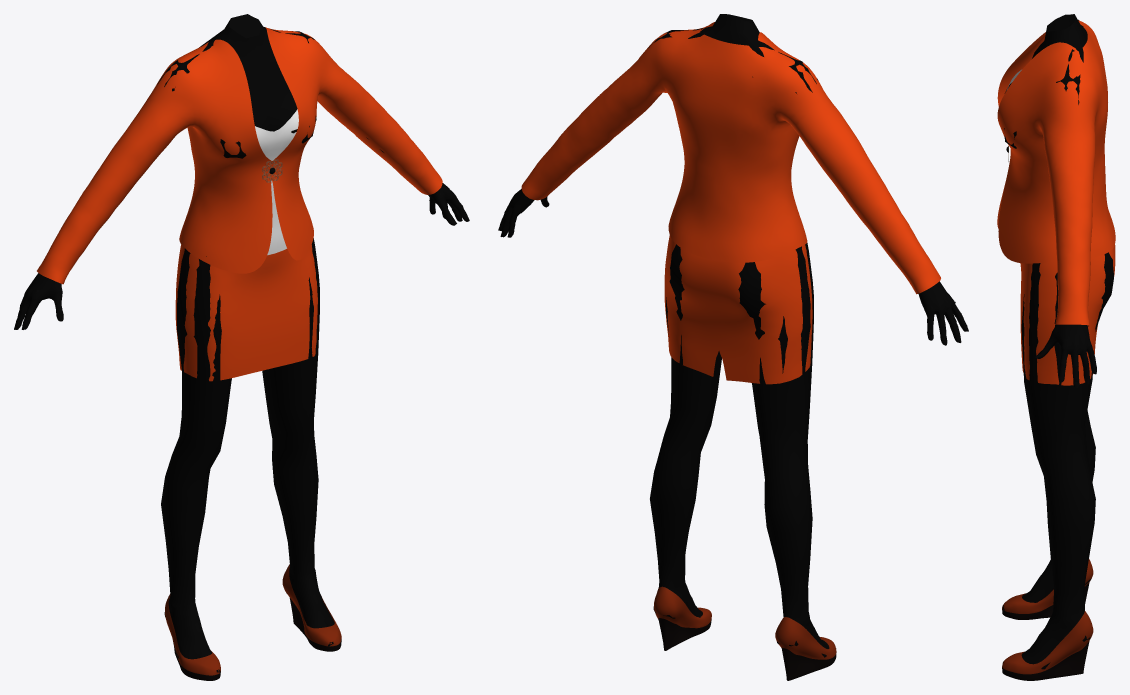
Rendered from Suit.FBX.
3 views of the same model, side by side, from view 1: azimuth 30°, elevation 25°; view 2: azimuth 150°, elevation 25°; view 3: azimuth 270°, elevation 25° (orthographic). The views are drawn at different scales.
Visible parts, largest first — view 1: Jacket, Mannequin, Skirt, Shoes, Top; view 2: Jacket, Mannequin, Skirt, Shoes; view 3: Jacket, Mannequin, Skirt, Shoes.
Part boxes in pixels (left/top/right/bottom): Jacket: left=37, top=27, right=442, bottom=284; Mannequin: left=14, top=14, right=469, bottom=675; Skirt: left=175, top=244, right=317, bottom=381; Shoes: left=165, top=564, right=341, bottom=680; Top: left=255, top=109, right=298, bottom=255; Jacket: left=521, top=22, right=940, bottom=294; Mannequin: left=498, top=14, right=968, bottom=657; Skirt: left=664, top=235, right=812, bottom=384; Shoes: left=654, top=586, right=836, bottom=680; Jacket: left=997, top=20, right=1115, bottom=326; Mannequin: left=1002, top=14, right=1113, bottom=675; Skirt: left=1020, top=245, right=1115, bottom=385; Shoes: left=1002, top=559, right=1093, bottom=680.
Bounding box in the file's own units: 44.31 × 59.05 × 10.11.
